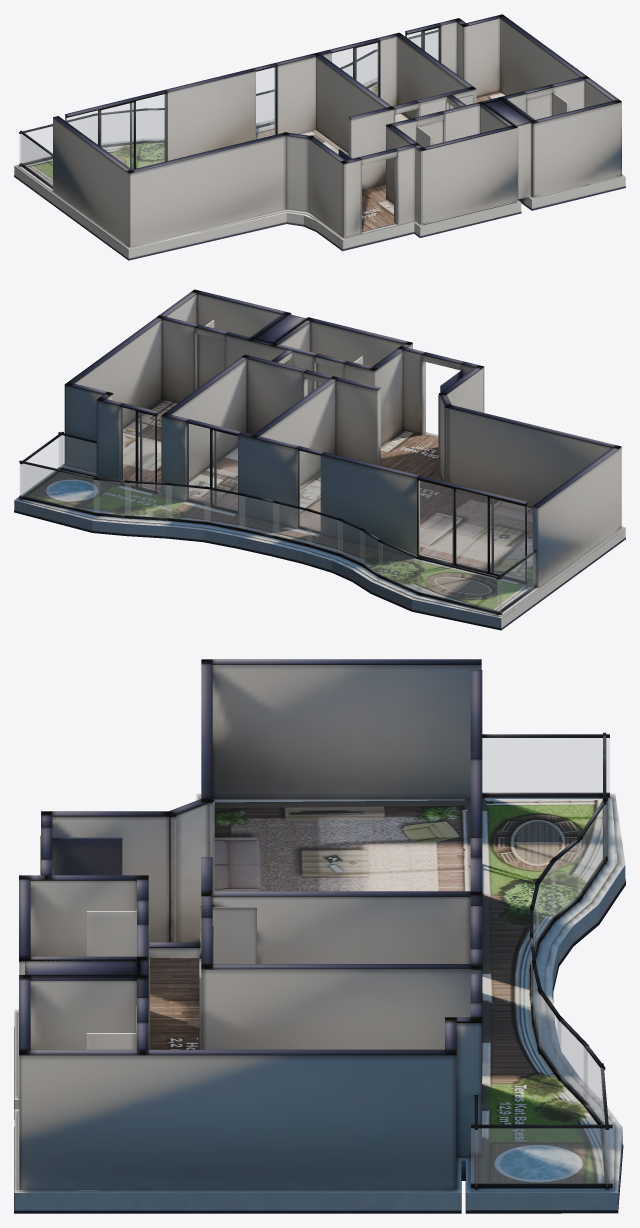
3 views of the same model, one above another, from view 1: azimuth 30°, elevation 25°; view 2: azimuth 150°, elevation 25°; view 3: azimuth 270°, elevation 25° (orthographic). The views are drawn at different scales.
Parts seen in each view (by area): view 1: plan, glass0_m, glass2_m, glass1_m, railg2_m, railg5_m, railg1_m, glass3_m, railg6_m, railg12_m; view 2: plan, glass0_m, glass2_m, railg2_m, railg14_m, glass3_m, railg12_m, railg11_m, glass1_m, railg5_m, railg10_m, railg9_m (+8 smaller); view 3: plan, railg0_m, railg1_m, railg6_m, railg12_m, railg5_m, railg11_m, railg13_m, railg7_m.
Part boxes in pixels (left/top/right/bottom): plan: left=14, top=14, right=625, bottom=260; glass0_m: left=66, top=94, right=166, bottom=169; glass2_m: left=332, top=43, right=378, bottom=95; glass1_m: left=256, top=67, right=275, bottom=138; railg2_m: left=19, top=117, right=93, bottom=163; railg5_m: left=96, top=111, right=142, bottom=144; railg1_m: left=21, top=134, right=52, bottom=185; glass3_m: left=406, top=28, right=438, bottom=60; railg6_m: left=147, top=110, right=163, bottom=140; railg12_m: left=357, top=55, right=371, bottom=86; plan: left=14, top=289, right=625, bottom=630; glass0_m: left=419, top=481, right=524, bottom=580; glass2_m: left=187, top=423, right=237, bottom=510; railg2_m: left=417, top=559, right=501, bottom=612; railg14_m: left=20, top=464, right=99, bottom=512; glass3_m: left=121, top=407, right=154, bottom=490; railg12_m: left=125, top=483, right=171, bottom=517; railg11_m: left=166, top=485, right=210, bottom=521; glass1_m: left=299, top=451, right=320, bottom=530; railg5_m: left=379, top=542, right=421, bottom=592; railg10_m: left=205, top=489, right=244, bottom=528; railg9_m: left=239, top=496, right=278, bottom=536; plan: left=14, top=659, right=625, bottom=1213; railg0_m: left=471, top=1128, right=612, bottom=1183; railg1_m: left=482, top=738, right=609, bottom=793; railg6_m: left=551, top=840, right=581, bottom=919; railg12_m: left=557, top=1019, right=587, bottom=1103; railg5_m: left=577, top=805, right=606, bottom=897; railg11_m: left=539, top=994, right=561, bottom=1076; railg13_m: left=584, top=1047, right=603, bottom=1123; railg7_m: left=537, top=863, right=554, bottom=940.
Size of the model in its own units: 14.33 by 2.62 by 9.28.
Materials: 2 (1 with a texture image).
